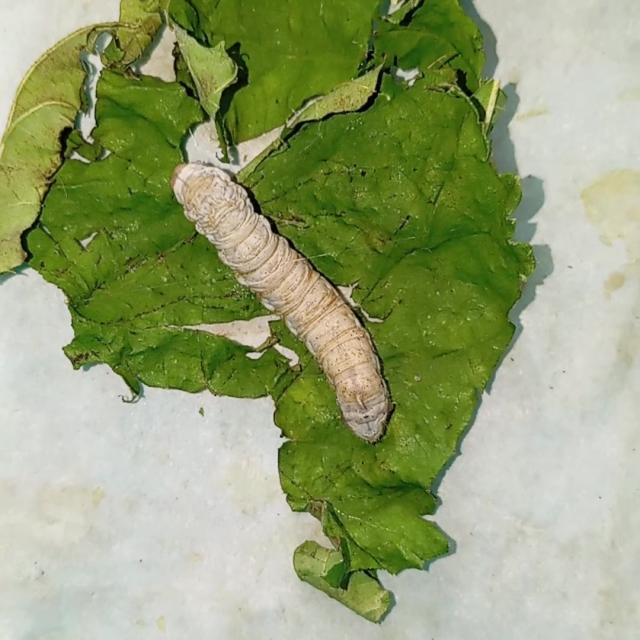Grasserie: (160, 157, 403, 449)
